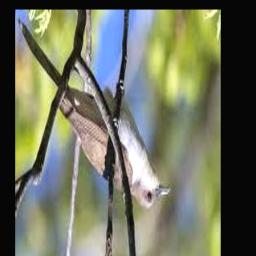Cuckoo: (18, 20, 170, 209)
